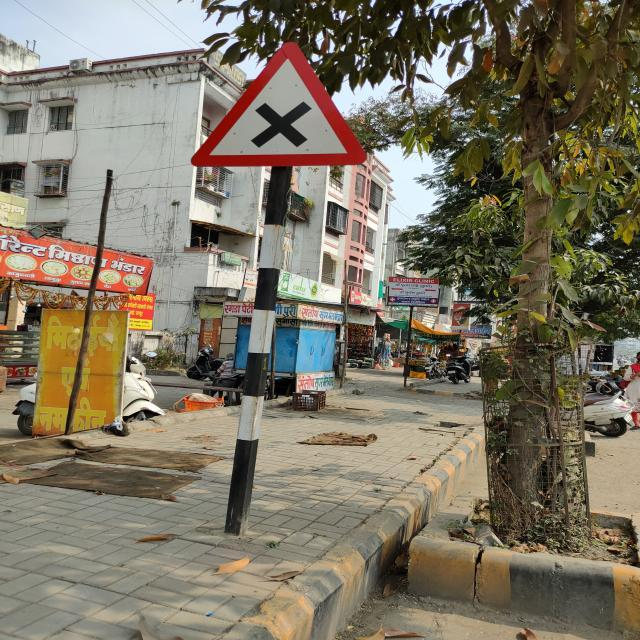cross road: (185, 38, 372, 171)
